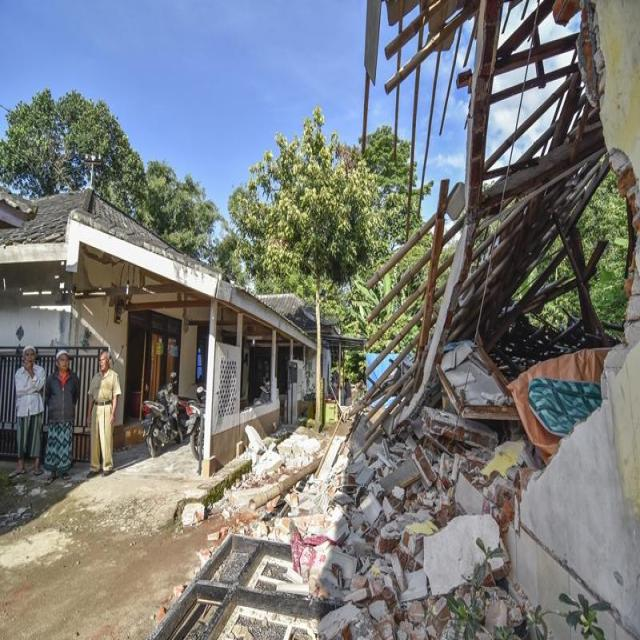damage: (146, 367, 558, 640)
